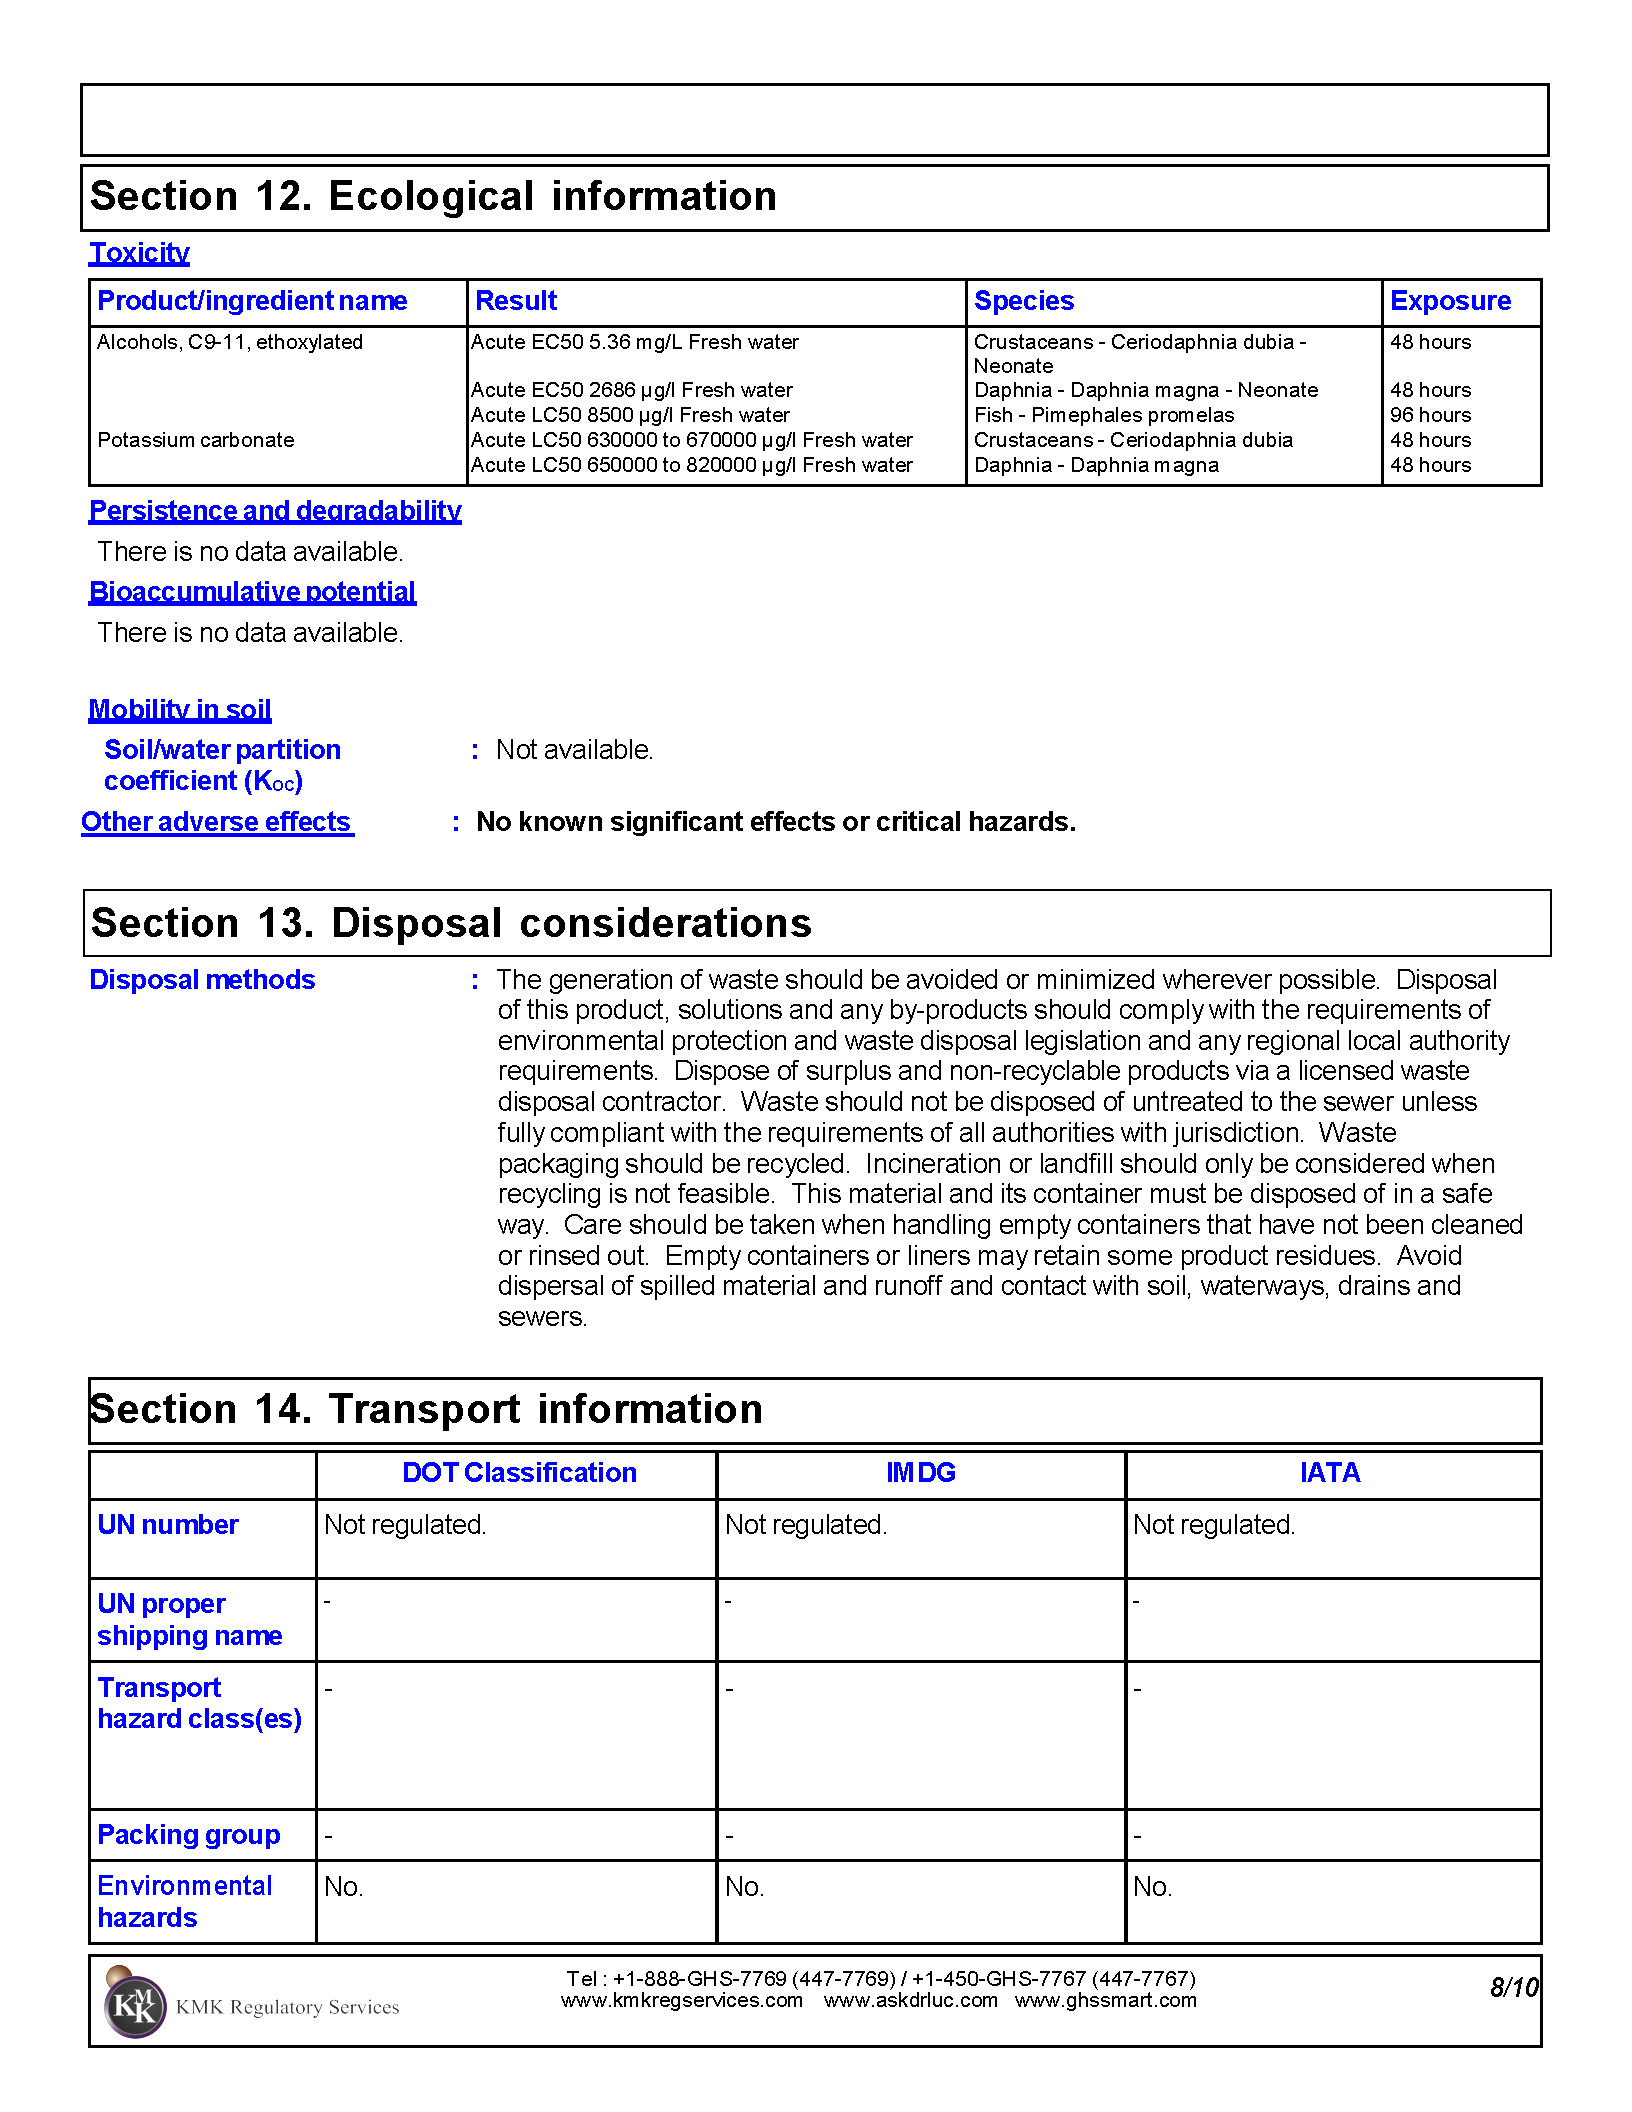table: (87, 1449, 1543, 1946), (91, 279, 1543, 487)
